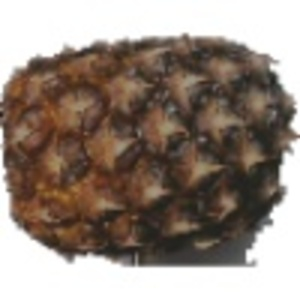abacaxi: (2, 26, 294, 253)
